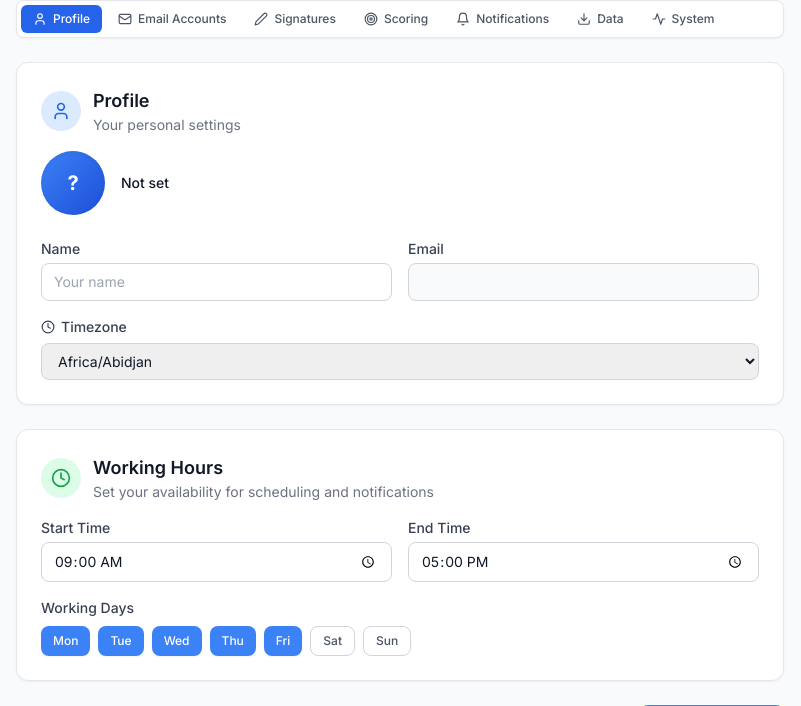
Test: Settings → Automation › follows the server when a flag is off
Click the button "Data" at (600, 19), box [565,5,636,33]
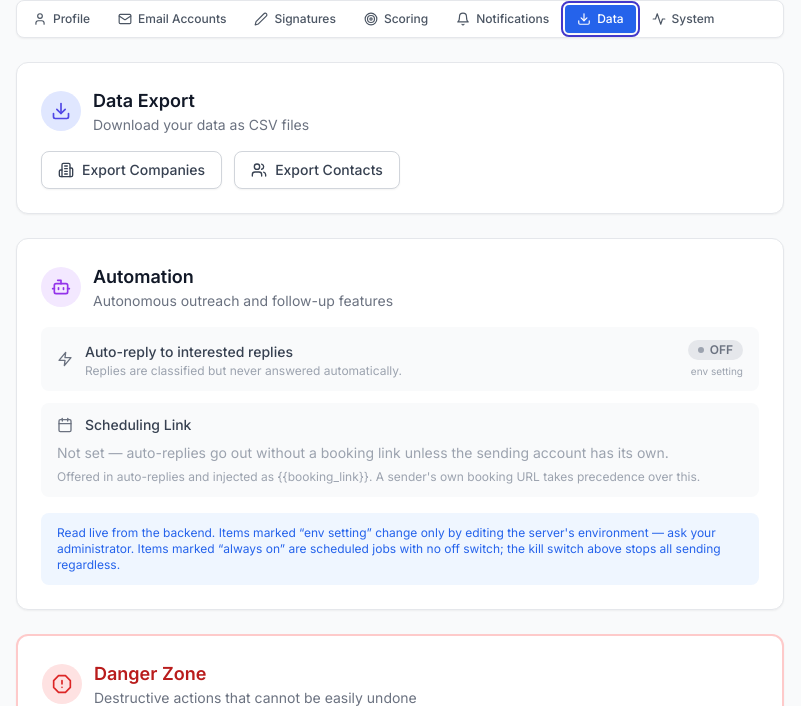
Now the text "OFF" is shown, box [688,340,743,360]
Now the text "Replies are classified but never answered automatically." is shown, box [85,363,402,379]
